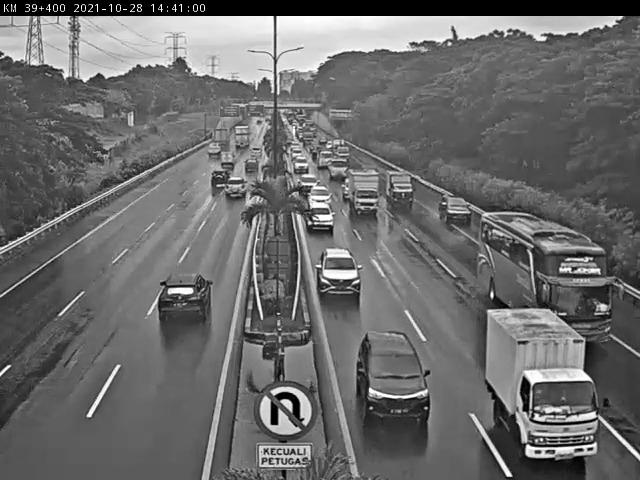big bus: (479, 210, 614, 351)
car: (354, 329, 431, 424), (156, 274, 216, 324), (316, 246, 362, 297), (438, 193, 472, 224), (304, 201, 334, 233), (223, 175, 249, 197), (209, 169, 232, 187)
mid truck: (485, 306, 600, 461), (348, 168, 379, 213), (385, 168, 415, 207)
